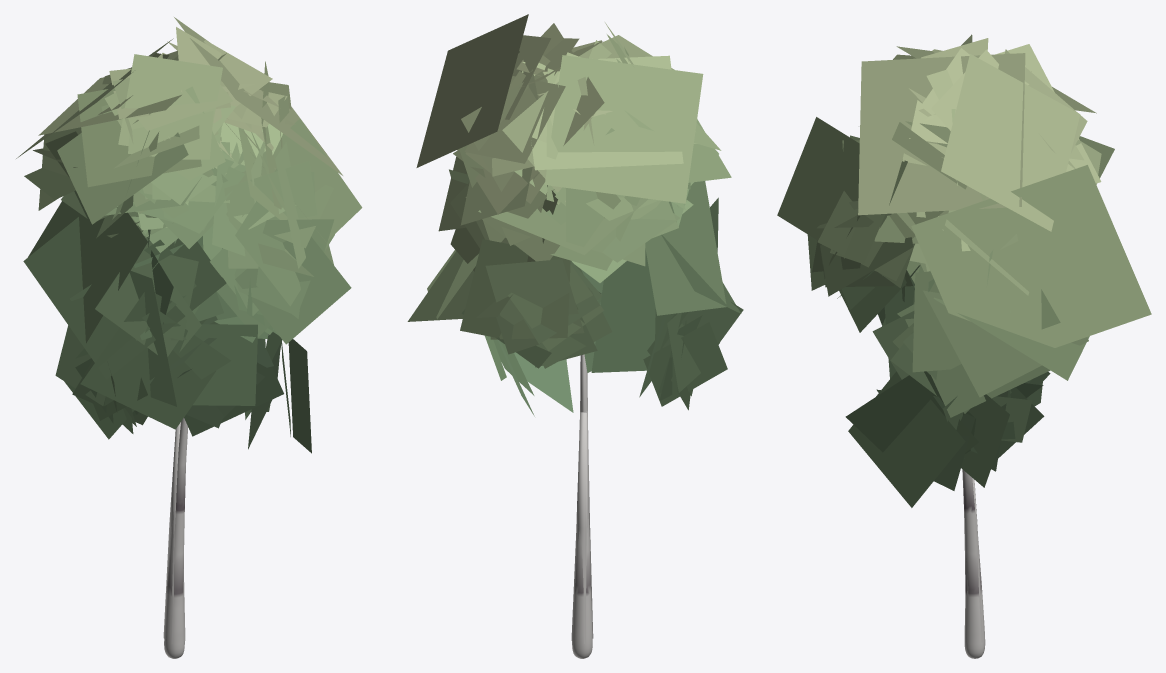
Rendered from silver_birch_v3.glb.
3 views of the same model, side by side, from view 1: azimuth 30°, elevation 25°; view 2: azimuth 150°, elevation 25°; view 3: azimuth 270°, elevation 25° (orthographic).
Visible parts, largest first — view 1: near, far; view 2: far, near; view 3: far, near.
Boxes of the visible parts, x1,y1,x2,y2 form: near: (24,27,362,658); far: (16,17,342,644); far: (407,14,741,643); near: (438,22,743,658); far: (858,44,1151,642); near: (777,34,1101,658).
Size of the model in its own units: 6.98 by 14.74 by 7.92.
